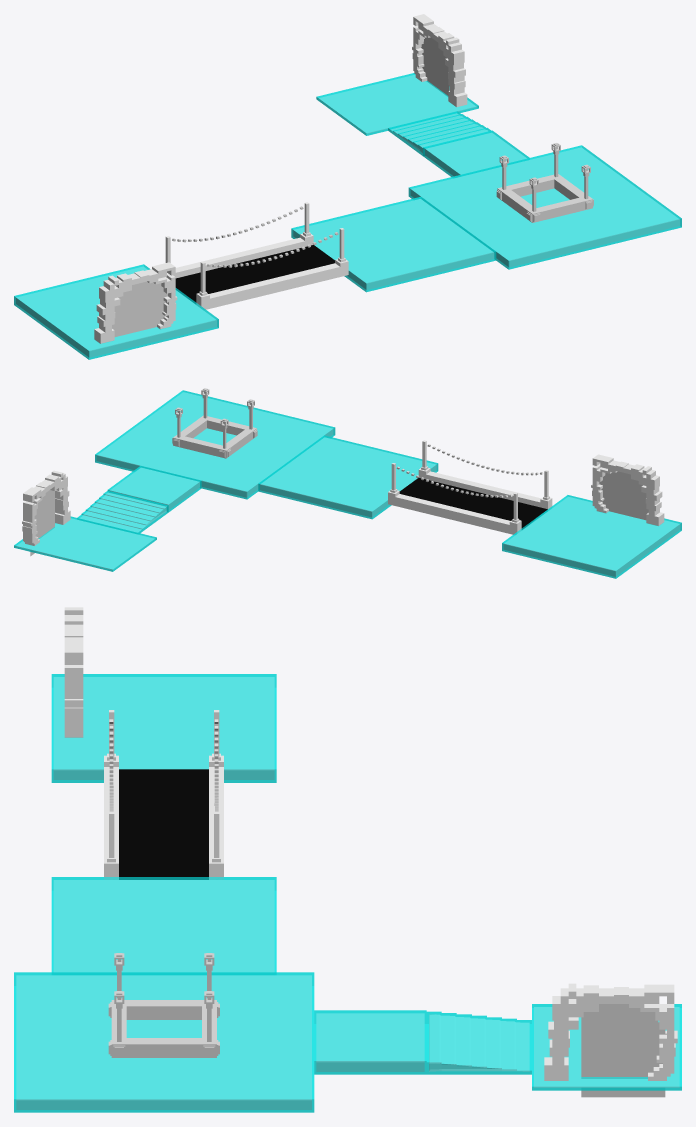
Rendered from Hub Outline.fbx.
The picture shows the model from 3 angles, top to bottom: view 1: azimuth 30°, elevation 25°; view 2: azimuth 150°, elevation 25°; view 3: azimuth 270°, elevation 25°; orthographic projection. The views are drawn at different scales.
Parts seen in each view (by area): view 1: Central Hall Floor.001, Dice Zone Floor 1.001, Dice Zone Floor 2.001, Arrival.001, Bridge Planks.001, Reception.001, Link to Hub.001, Ark Dice.001, Bridge Railing Left.001, Ark Arrival.001, Stairs.001, Veil Dice.001 (+2 smaller); view 2: Central Hall Floor.001, Dice Zone Floor 2.001, Dice Zone Floor 1.001, Arrival.001, Bridge Planks.001, Reception.001, Link to Hub.001, Stairs.001, Ark Dice.001, Bridge Railing Right.001, Ark Arrival.001, Veil Dice.001 (+2 smaller); view 3: Central Hall Floor.001, Dice Zone Floor 1.001, Dice Zone Floor 2.001, Bridge Planks.001, Link to Hub.001, Stairs.001, Veil Arrival.001, Ark Arrival.001, Reception.001, Arrival.001, Ark Dice.001, Bridge Railing Left.001 (+1 smaller).
Part boxes in pixels (x1,y1,x2,y2): Central Hall Floor.001: (408, 145, 681, 269); Dice Zone Floor 1.001: (291, 196, 496, 292); Dice Zone Floor 2.001: (14, 264, 218, 359); Arrival.001: (316, 73, 478, 135); Bridge Planks.001: (175, 245, 334, 303); Reception.001: (496, 143, 593, 222); Link to Hub.001: (423, 130, 529, 176); Ark Dice.001: (94, 262, 177, 343); Bridge Railing Left.001: (196, 228, 348, 309); Ark Arrival.001: (412, 14, 467, 107); Stairs.001: (388, 111, 490, 155); Veil Dice.001: (112, 281, 167, 336); Central Hall Floor.001: (95, 390, 335, 499); Dice Zone Floor 2.001: (502, 495, 681, 578); Dice Zone Floor 1.001: (258, 435, 438, 519); Arrival.001: (14, 516, 156, 571); Bridge Planks.001: (399, 478, 547, 529); Reception.001: (172, 388, 257, 458); Link to Hub.001: (107, 465, 201, 512); Stairs.001: (77, 490, 168, 533); Ark Dice.001: (591, 454, 664, 525); Bridge Railing Right.001: (388, 463, 521, 534); Ark Arrival.001: (22, 470, 70, 545); Veil Dice.001: (599, 471, 648, 520); Central Hall Floor.001: (14, 972, 314, 1112); Dice Zone Floor 1.001: (51, 877, 276, 974); Dice Zone Floor 2.001: (51, 674, 276, 782); Bridge Planks.001: (119, 769, 208, 879); Link to Hub.001: (314, 1010, 426, 1074); Stairs.001: (426, 1011, 531, 1074); Veil Arrival.001: (581, 1004, 666, 1097); Ark Arrival.001: (544, 983, 677, 1080); Reception.001: (108, 953, 219, 1057); Arrival.001: (532, 1004, 681, 1090); Ark Dice.001: (64, 607, 83, 737); Bridge Railing Left.001: (104, 710, 118, 879).
Bounding box in the file's own units: 13400 × 1747 × 8900.
